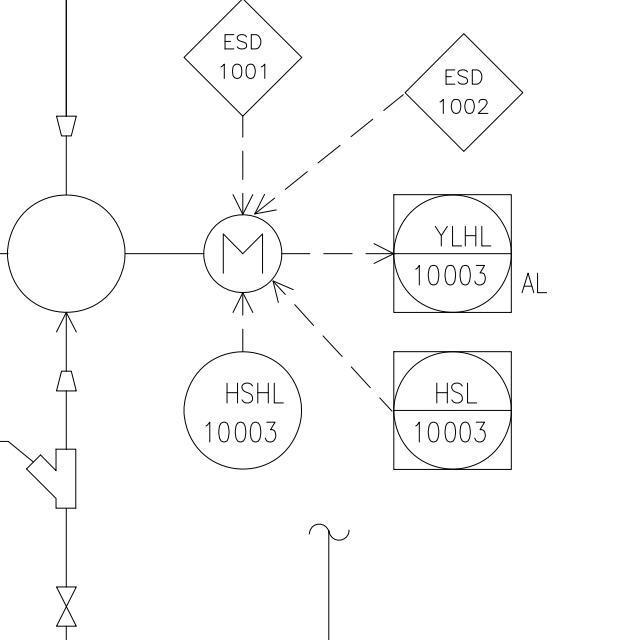GV: (50, 579, 81, 631)
M: (200, 213, 282, 294)
SP: (50, 366, 79, 394), (53, 109, 78, 141)
